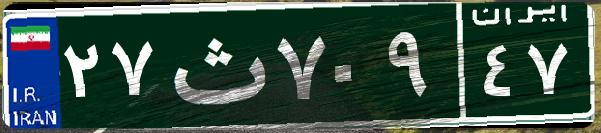0: (330, 28, 385, 110)
2: (57, 26, 110, 107)
4: (475, 38, 525, 113)
7: (273, 28, 330, 110), (110, 28, 158, 105), (525, 38, 570, 115)
9: (385, 28, 445, 110)
ث: (158, 15, 273, 115)
